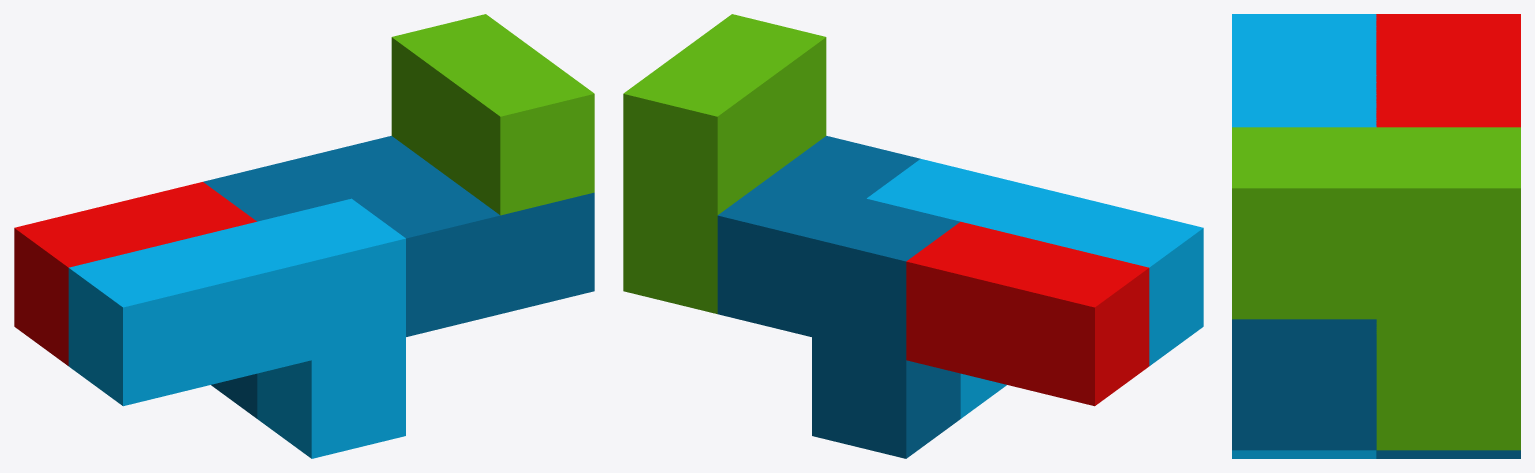
The picture shows the model from 3 angles, left to right: view 1: azimuth 30°, elevation 25°; view 2: azimuth 150°, elevation 25°; view 3: azimuth 270°, elevation 25°; orthographic projection. The views are drawn at different scales.
Visible parts, largest first — view 1: mergedBlocks(Clone); view 2: mergedBlocks(Clone); view 3: mergedBlocks(Clone).
Part boxes in pixels (x1,y1,x2,y2): mergedBlocks(Clone): (14, 14, 594, 458); mergedBlocks(Clone): (623, 14, 1203, 458); mergedBlocks(Clone): (1232, 14, 1520, 458).
Bounding box in the file's own units: 5 × 3 × 2.
Materials: 4 (4 with a texture image).
